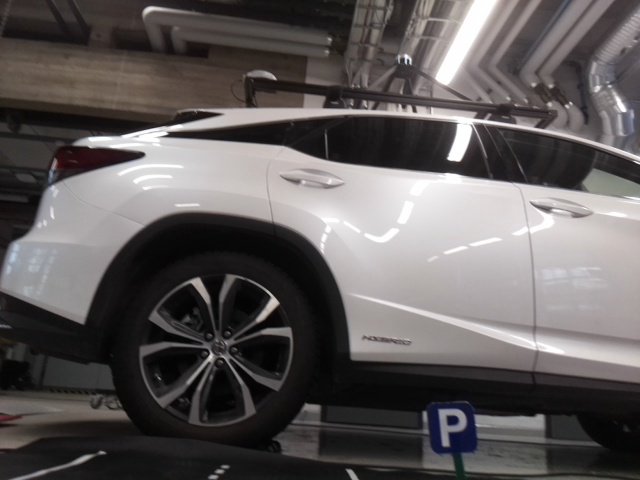Parking: (425, 402, 475, 453)
